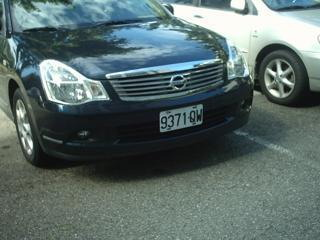plate: (156, 107, 205, 131)
